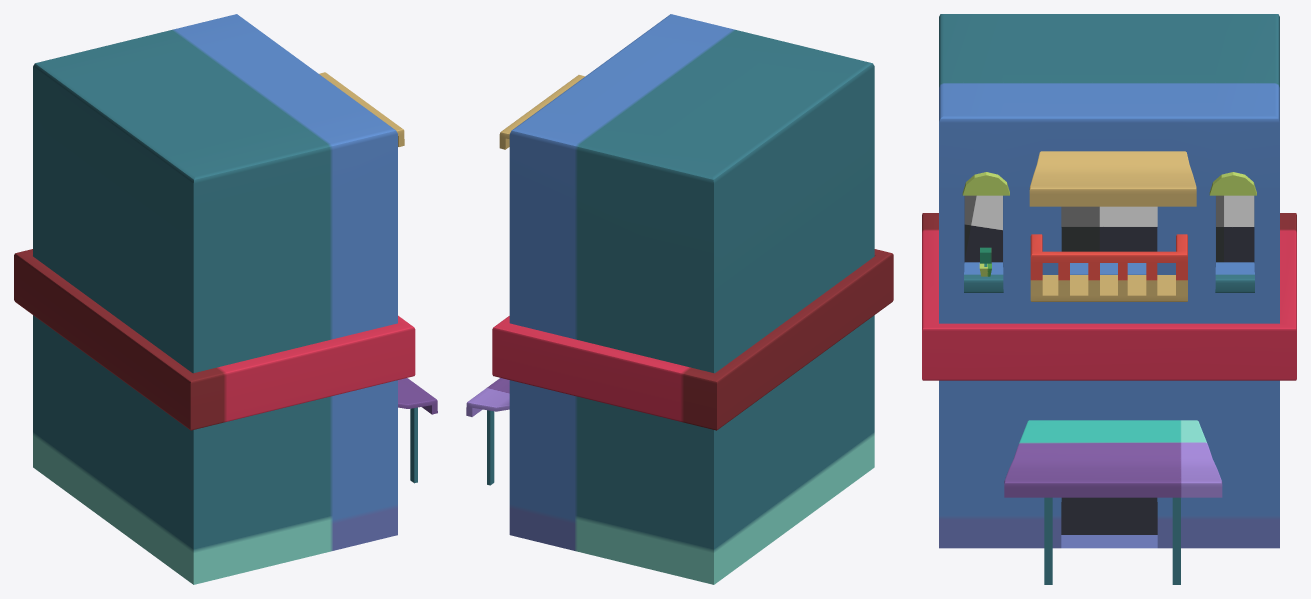
File: BuildingShort_01B.fbx
3 views of the same model, side by side, from view 1: azimuth 30°, elevation 25°; view 2: azimuth 150°, elevation 25°; view 3: azimuth 270°, elevation 25° (orthographic). The views are drawn at different scales.
Visible parts, largest first — view 1: polySurface1065; view 2: polySurface1065; view 3: polySurface1065.
Boxes of the visible parts, box(x1,y1,x2,y2) form: polySurface1065: box(14, 14, 437, 584); polySurface1065: box(466, 14, 893, 584); polySurface1065: box(922, 14, 1296, 584).
Bounding box in the file's own units: 4.22 × 5.73 × 4.52.
